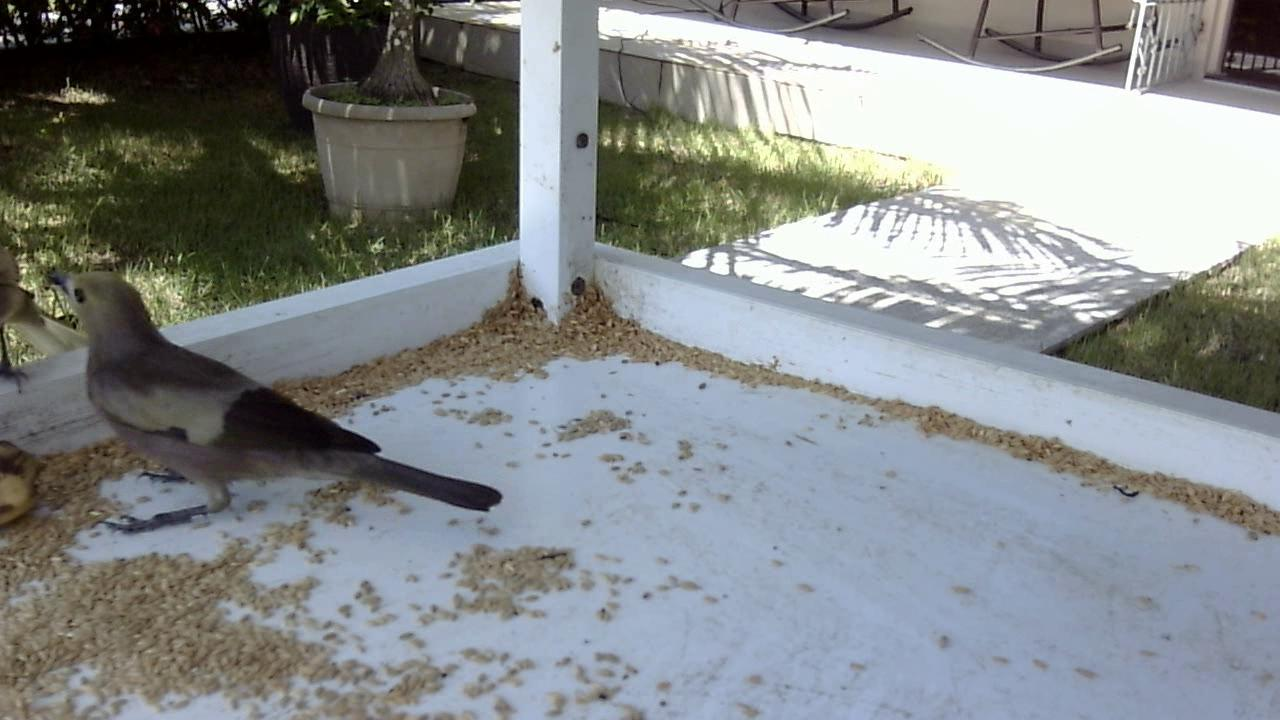sanhaco_do_coqueiro: (44, 261, 507, 554)
